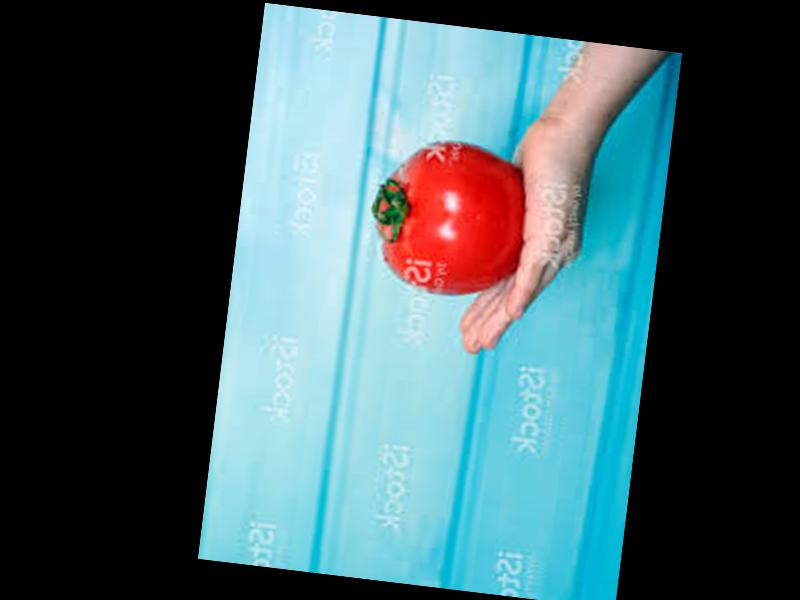Tomato: (365, 136, 533, 304)
